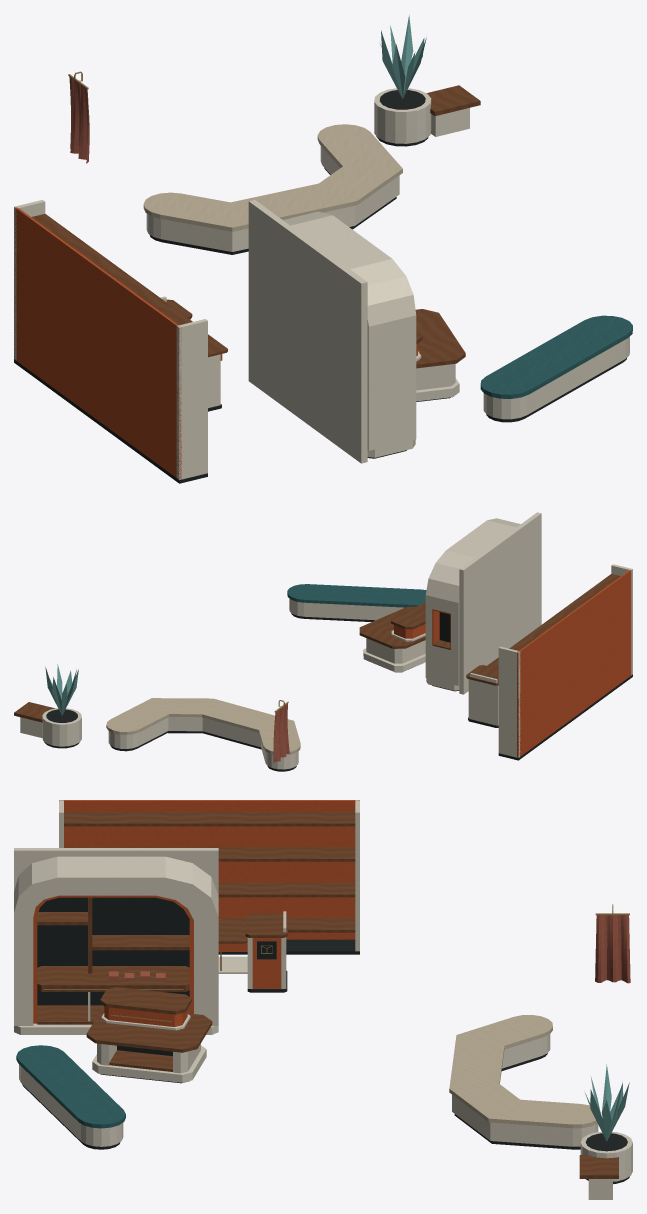
File: SHOP_D09_S72_A366__fitout.glb
3 renders of one model, top to bottom at view 1: azimuth 30°, elevation 25°; view 2: azimuth 150°, elevation 25°; view 3: azimuth 270°, elevation 25°, orthographic. The views are drawn at different scales.
Visible parts, largest first — view 1: SHOP_D09_S72_A366__fitout__ivory_enamel, SHOP_D09_S72_A366__fitout__retail_terracotta_enamel, SHOP_D09_S72_A366__fitout__oatmeal_weave, SHOP_D09_S72_A366__fitout__warm_walnut, SHOP_D09_S72_A366__fitout__teal_weave, SHOP_D09_S72_A366__fitout__dark_rubber, SHOP_D09_S72_A366__fitout__quiet_teal, SHOP_D09_S72_A366__fitout__clay_weave; view 2: SHOP_D09_S72_A366__fitout__ivory_enamel, SHOP_D09_S72_A366__fitout__retail_terracotta_enamel, SHOP_D09_S72_A366__fitout__oatmeal_weave, SHOP_D09_S72_A366__fitout__warm_walnut, SHOP_D09_S72_A366__fitout__teal_weave, SHOP_D09_S72_A366__fitout__dark_rubber, SHOP_D09_S72_A366__fitout__quiet_teal, SHOP_D09_S72_A366__fitout__clay_weave; view 3: SHOP_D09_S72_A366__fitout__ivory_enamel, SHOP_D09_S72_A366__fitout__warm_walnut, SHOP_D09_S72_A366__fitout__retail_terracotta_enamel, SHOP_D09_S72_A366__fitout__dark_rubber, SHOP_D09_S72_A366__fitout__oatmeal_weave, SHOP_D09_S72_A366__fitout__teal_weave, SHOP_D09_S72_A366__fitout__clay_weave, SHOP_D09_S72_A366__fitout__quiet_teal.
Boxes of the visible parts, x1,y1,x2,y2 form: SHOP_D09_S72_A366__fitout__ivory_enamel: (14, 88, 629, 479); SHOP_D09_S72_A366__fitout__retail_terracotta_enamel: (14, 207, 417, 479); SHOP_D09_S72_A366__fitout__oatmeal_weave: (143, 124, 402, 231); SHOP_D09_S72_A366__fitout__warm_walnut: (31, 85, 480, 368); SHOP_D09_S72_A366__fitout__teal_weave: (480, 315, 632, 398); SHOP_D09_S72_A366__fitout__dark_rubber: (14, 90, 626, 483); SHOP_D09_S72_A366__fitout__quiet_teal: (380, 15, 426, 98); SHOP_D09_S72_A366__fitout__clay_weave: (69, 77, 89, 163); SHOP_D09_S72_A366__fitout__ivory_enamel: (20, 512, 632, 769); SHOP_D09_S72_A366__fitout__retail_terracotta_enamel: (394, 570, 631, 757); SHOP_D09_S72_A366__fitout__oatmeal_weave: (106, 698, 300, 754); SHOP_D09_S72_A366__fitout__warm_walnut: (14, 574, 620, 722); SHOP_D09_S72_A366__fitout__teal_weave: (287, 584, 426, 607); SHOP_D09_S72_A366__fitout__dark_rubber: (44, 612, 632, 771); SHOP_D09_S72_A366__fitout__quiet_teal: (45, 664, 78, 715); SHOP_D09_S72_A366__fitout__clay_weave: (273, 704, 289, 762); SHOP_D09_S72_A366__fitout__ivory_enamel: (14, 800, 632, 1199); SHOP_D09_S72_A366__fitout__warm_walnut: (37, 812, 618, 1178); SHOP_D09_S72_A366__fitout__retail_terracotta_enamel: (33, 800, 359, 1026); SHOP_D09_S72_A366__fitout__dark_rubber: (22, 897, 629, 1184); SHOP_D09_S72_A366__fitout__oatmeal_weave: (449, 1015, 600, 1128); SHOP_D09_S72_A366__fitout__teal_weave: (16, 1045, 125, 1128); SHOP_D09_S72_A366__fitout__clay_weave: (109, 915, 630, 983); SHOP_D09_S72_A366__fitout__quiet_teal: (585, 1064, 629, 1141).
Size of the model in its own units: 10.25 by 3 by 10.29.
Materials: 9 (8 with a texture image).
